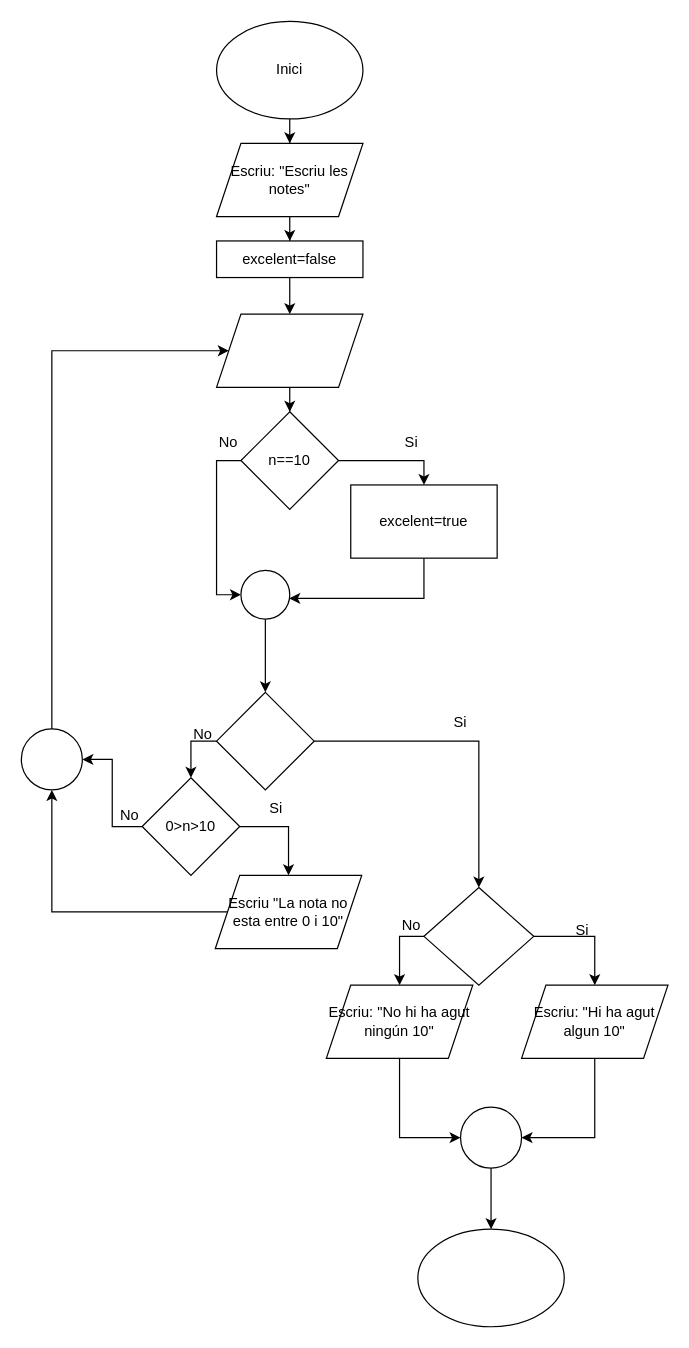
This 689x1348 diagram has some shape labels left out. Each missing label, with the box of its shape:
excelent ==true: (423, 886, 534, 985)
Fin: (417, 1228, 564, 1327)
Leer n: (215, 313, 363, 387)
n==-1: (215, 691, 314, 790)
